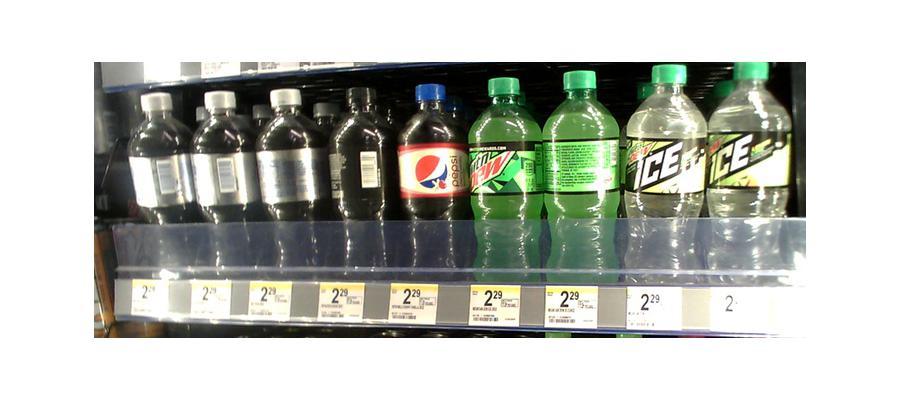bottle: (705, 56, 790, 279), (623, 63, 707, 281), (542, 69, 621, 284), (469, 75, 539, 280), (254, 87, 326, 273), (189, 91, 257, 280), (127, 89, 194, 278), (399, 82, 464, 274), (327, 85, 391, 277)
